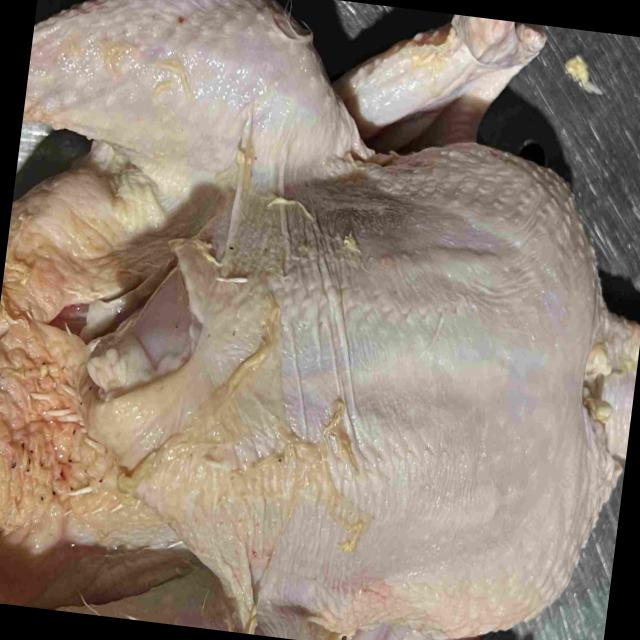breast: (96, 154, 612, 628)
leg: (22, 0, 361, 204), (0, 555, 332, 640)
neck: (590, 295, 640, 456)
wing: (342, 15, 538, 155)
